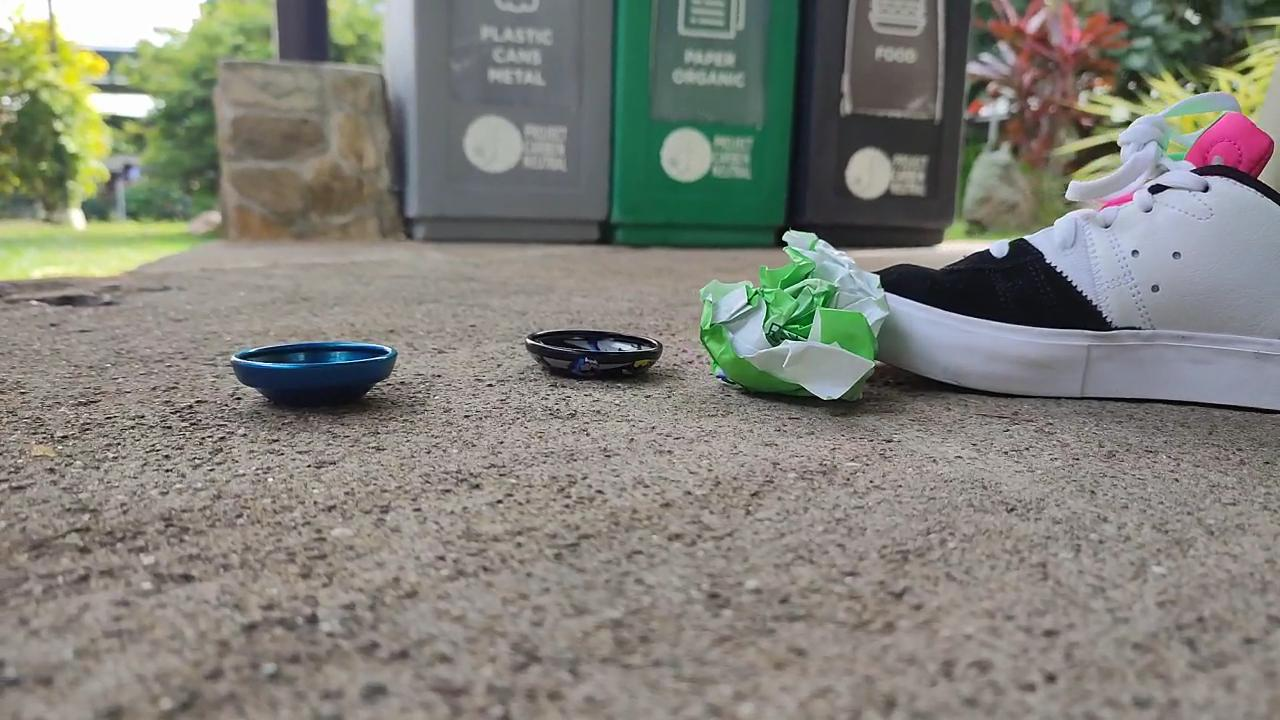Paper: (691, 215, 894, 426)
